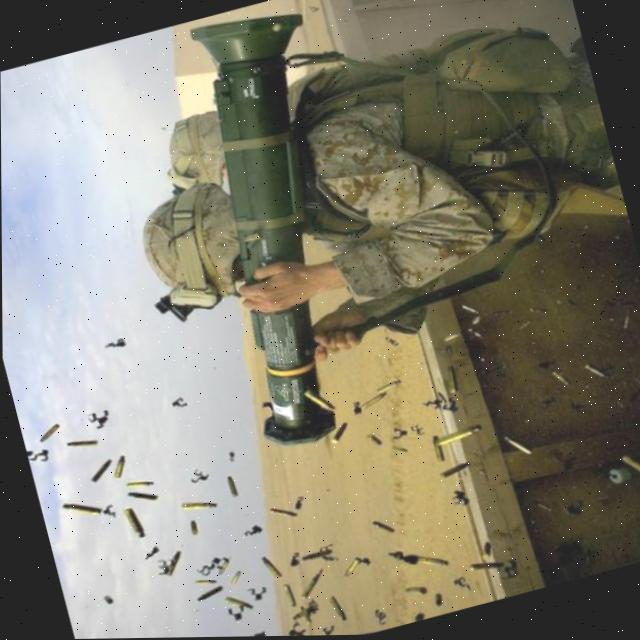rocket: (140, 0, 408, 477)
